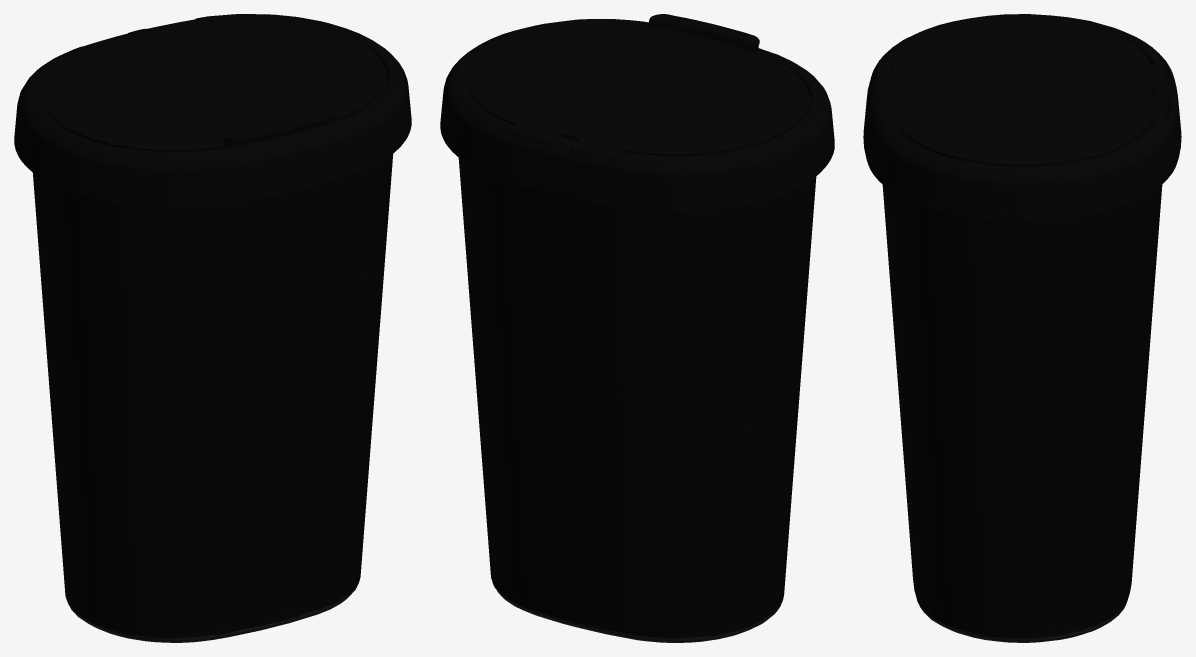
Rendered from holass_kosz_z_pokrywka_00520500.glb.
The picture shows the model from 3 angles, left to right: view 1: azimuth 30°, elevation 25°; view 2: azimuth 150°, elevation 25°; view 3: azimuth 270°, elevation 25°; orthographic projection. The views are drawn at different scales.
Visible parts, largest first — view 1: holass_kosz_z_pokrywka_00520500; view 2: holass_kosz_z_pokrywka_00520500; view 3: holass_kosz_z_pokrywka_00520500.
Boxes of the visible parts, bbox=[...] form: holass_kosz_z_pokrywka_00520500: bbox=[14, 14, 411, 642]; holass_kosz_z_pokrywka_00520500: bbox=[440, 14, 834, 642]; holass_kosz_z_pokrywka_00520500: bbox=[863, 14, 1181, 642].
Size of the model in its own units: 0.2501 by 0.3479 by 0.2.
1 material, 1 textured.
